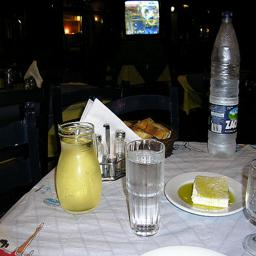bottle: (224, 16, 256, 233)
chair: (1, 163, 84, 256), (169, 125, 256, 207)
diningtable: (122, 171, 256, 256)
tvmonitor: (216, 1, 256, 58)
